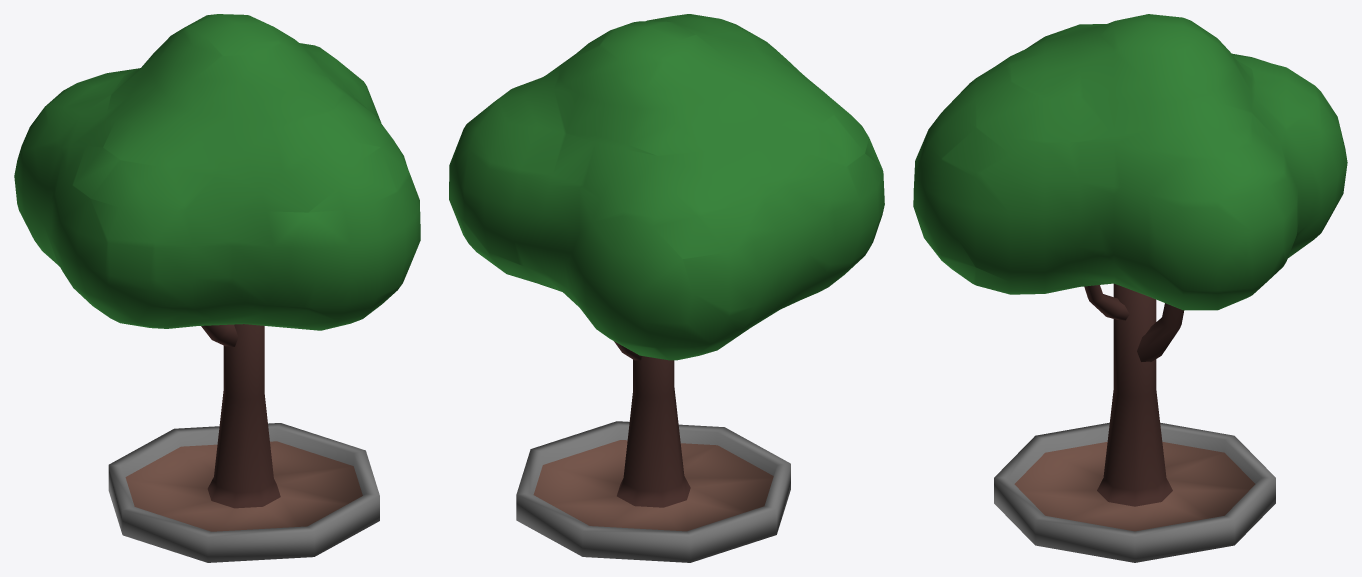
File: Town tree.fbx
3 renders of one model, left to right at view 1: azimuth 30°, elevation 25°; view 2: azimuth 150°, elevation 25°; view 3: azimuth 270°, elevation 25°, orthographic.
Visible parts, largest first — view 1: Mball.006; view 2: Mball.006; view 3: Mball.006.
Part boxes in pixels (box(x1,y1,x2,y2)): Mball.006: box(14, 14, 420, 562); Mball.006: box(449, 14, 884, 562); Mball.006: box(913, 14, 1347, 562).
Bounding box in the file's own units: 288 × 375 × 308.
